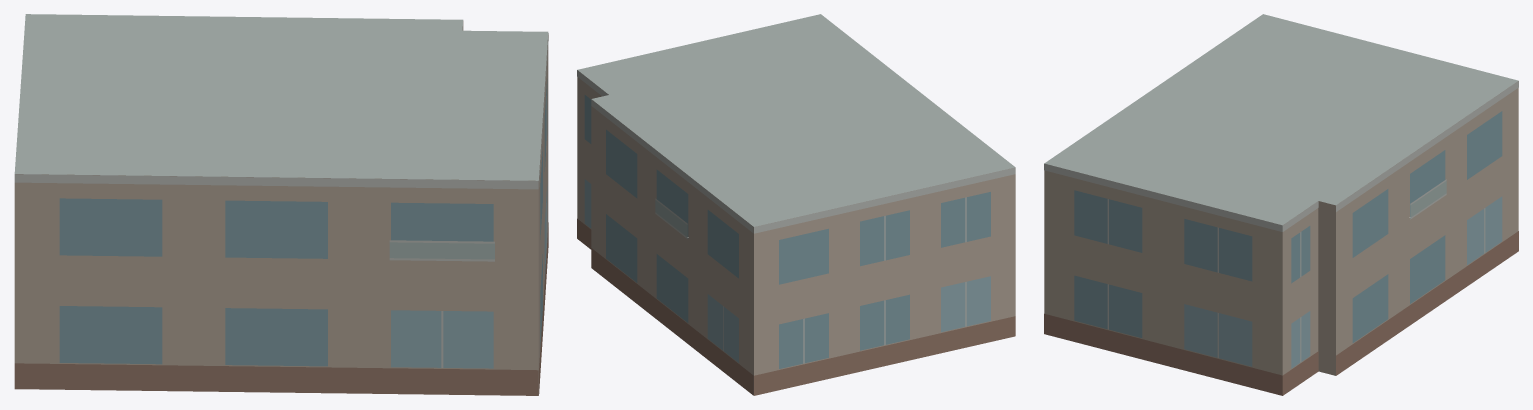
The model's file is survey-upis-32714372.glb.
The picture shows the model from 3 angles, left to right: view 1: azimuth 30°, elevation 25°; view 2: azimuth 150°, elevation 25°; view 3: azimuth 270°, elevation 25°; orthographic projection. The views are drawn at different scales.
Visible parts, largest first — view 1: survey-upis-32714372.tmp; view 2: survey-upis-32714372.tmp; view 3: survey-upis-32714372.tmp.
Boxes of the visible parts, <box> form: survey-upis-32714372.tmp: <box>14,14,548,395</box>; survey-upis-32714372.tmp: <box>577,14,1015,395</box>; survey-upis-32714372.tmp: <box>1044,14,1518,395</box>.
Size of the model in its own units: 16.22 by 6.1 by 15.39.
